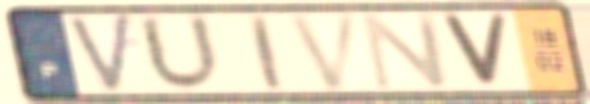I: (244, 12, 287, 92)
N: (357, 11, 453, 92)
U: (133, 11, 227, 95)
V: (283, 10, 365, 93), (63, 11, 137, 97), (435, 12, 512, 90)
